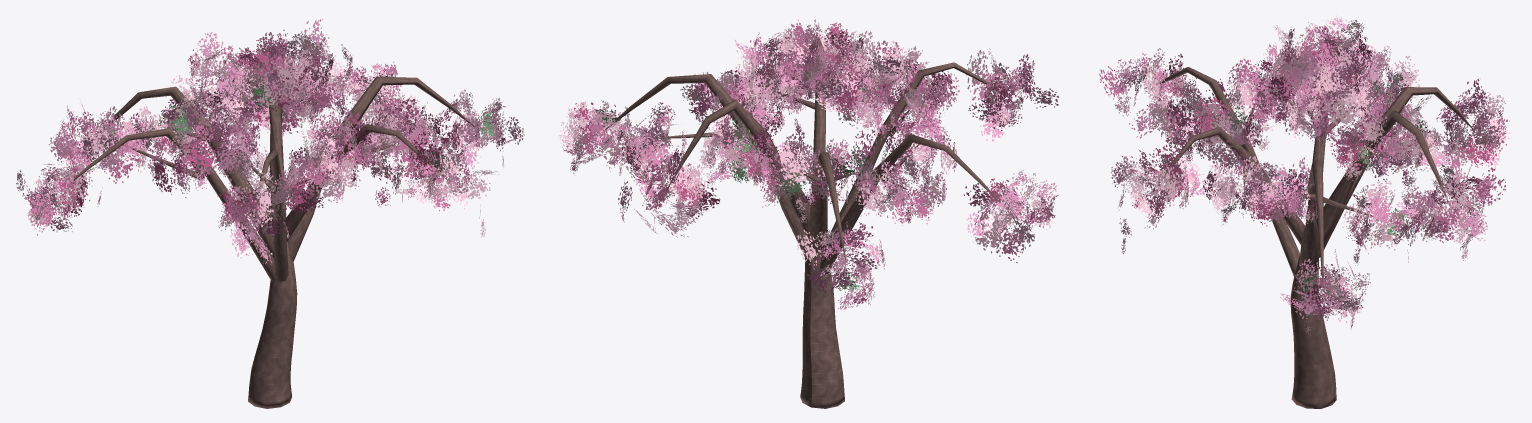
The model's file is Tree_Cherry_01_PinkBloom_LOD1.glb.
The picture shows the model from 3 angles, left to right: view 1: azimuth 30°, elevation 25°; view 2: azimuth 150°, elevation 25°; view 3: azimuth 270°, elevation 25°; orthographic projection.
Parts seen in each view (by area): view 1: Tree_Cherry_01_PinkBloom_LOD1; view 2: Tree_Cherry_01_PinkBloom_LOD1; view 3: Tree_Cherry_01_PinkBloom_LOD1.
Boxes of the visible parts, x1=… form: Tree_Cherry_01_PinkBloom_LOD1: x1=16, y1=19, x2=524, y2=408; Tree_Cherry_01_PinkBloom_LOD1: x1=558, y1=19, x2=1058, y2=408; Tree_Cherry_01_PinkBloom_LOD1: x1=1099, y1=15, x2=1511, y2=408.
Size of the model in its own units: 10.44 by 7.47 by 7.85.
2 materials, 2 textured.
